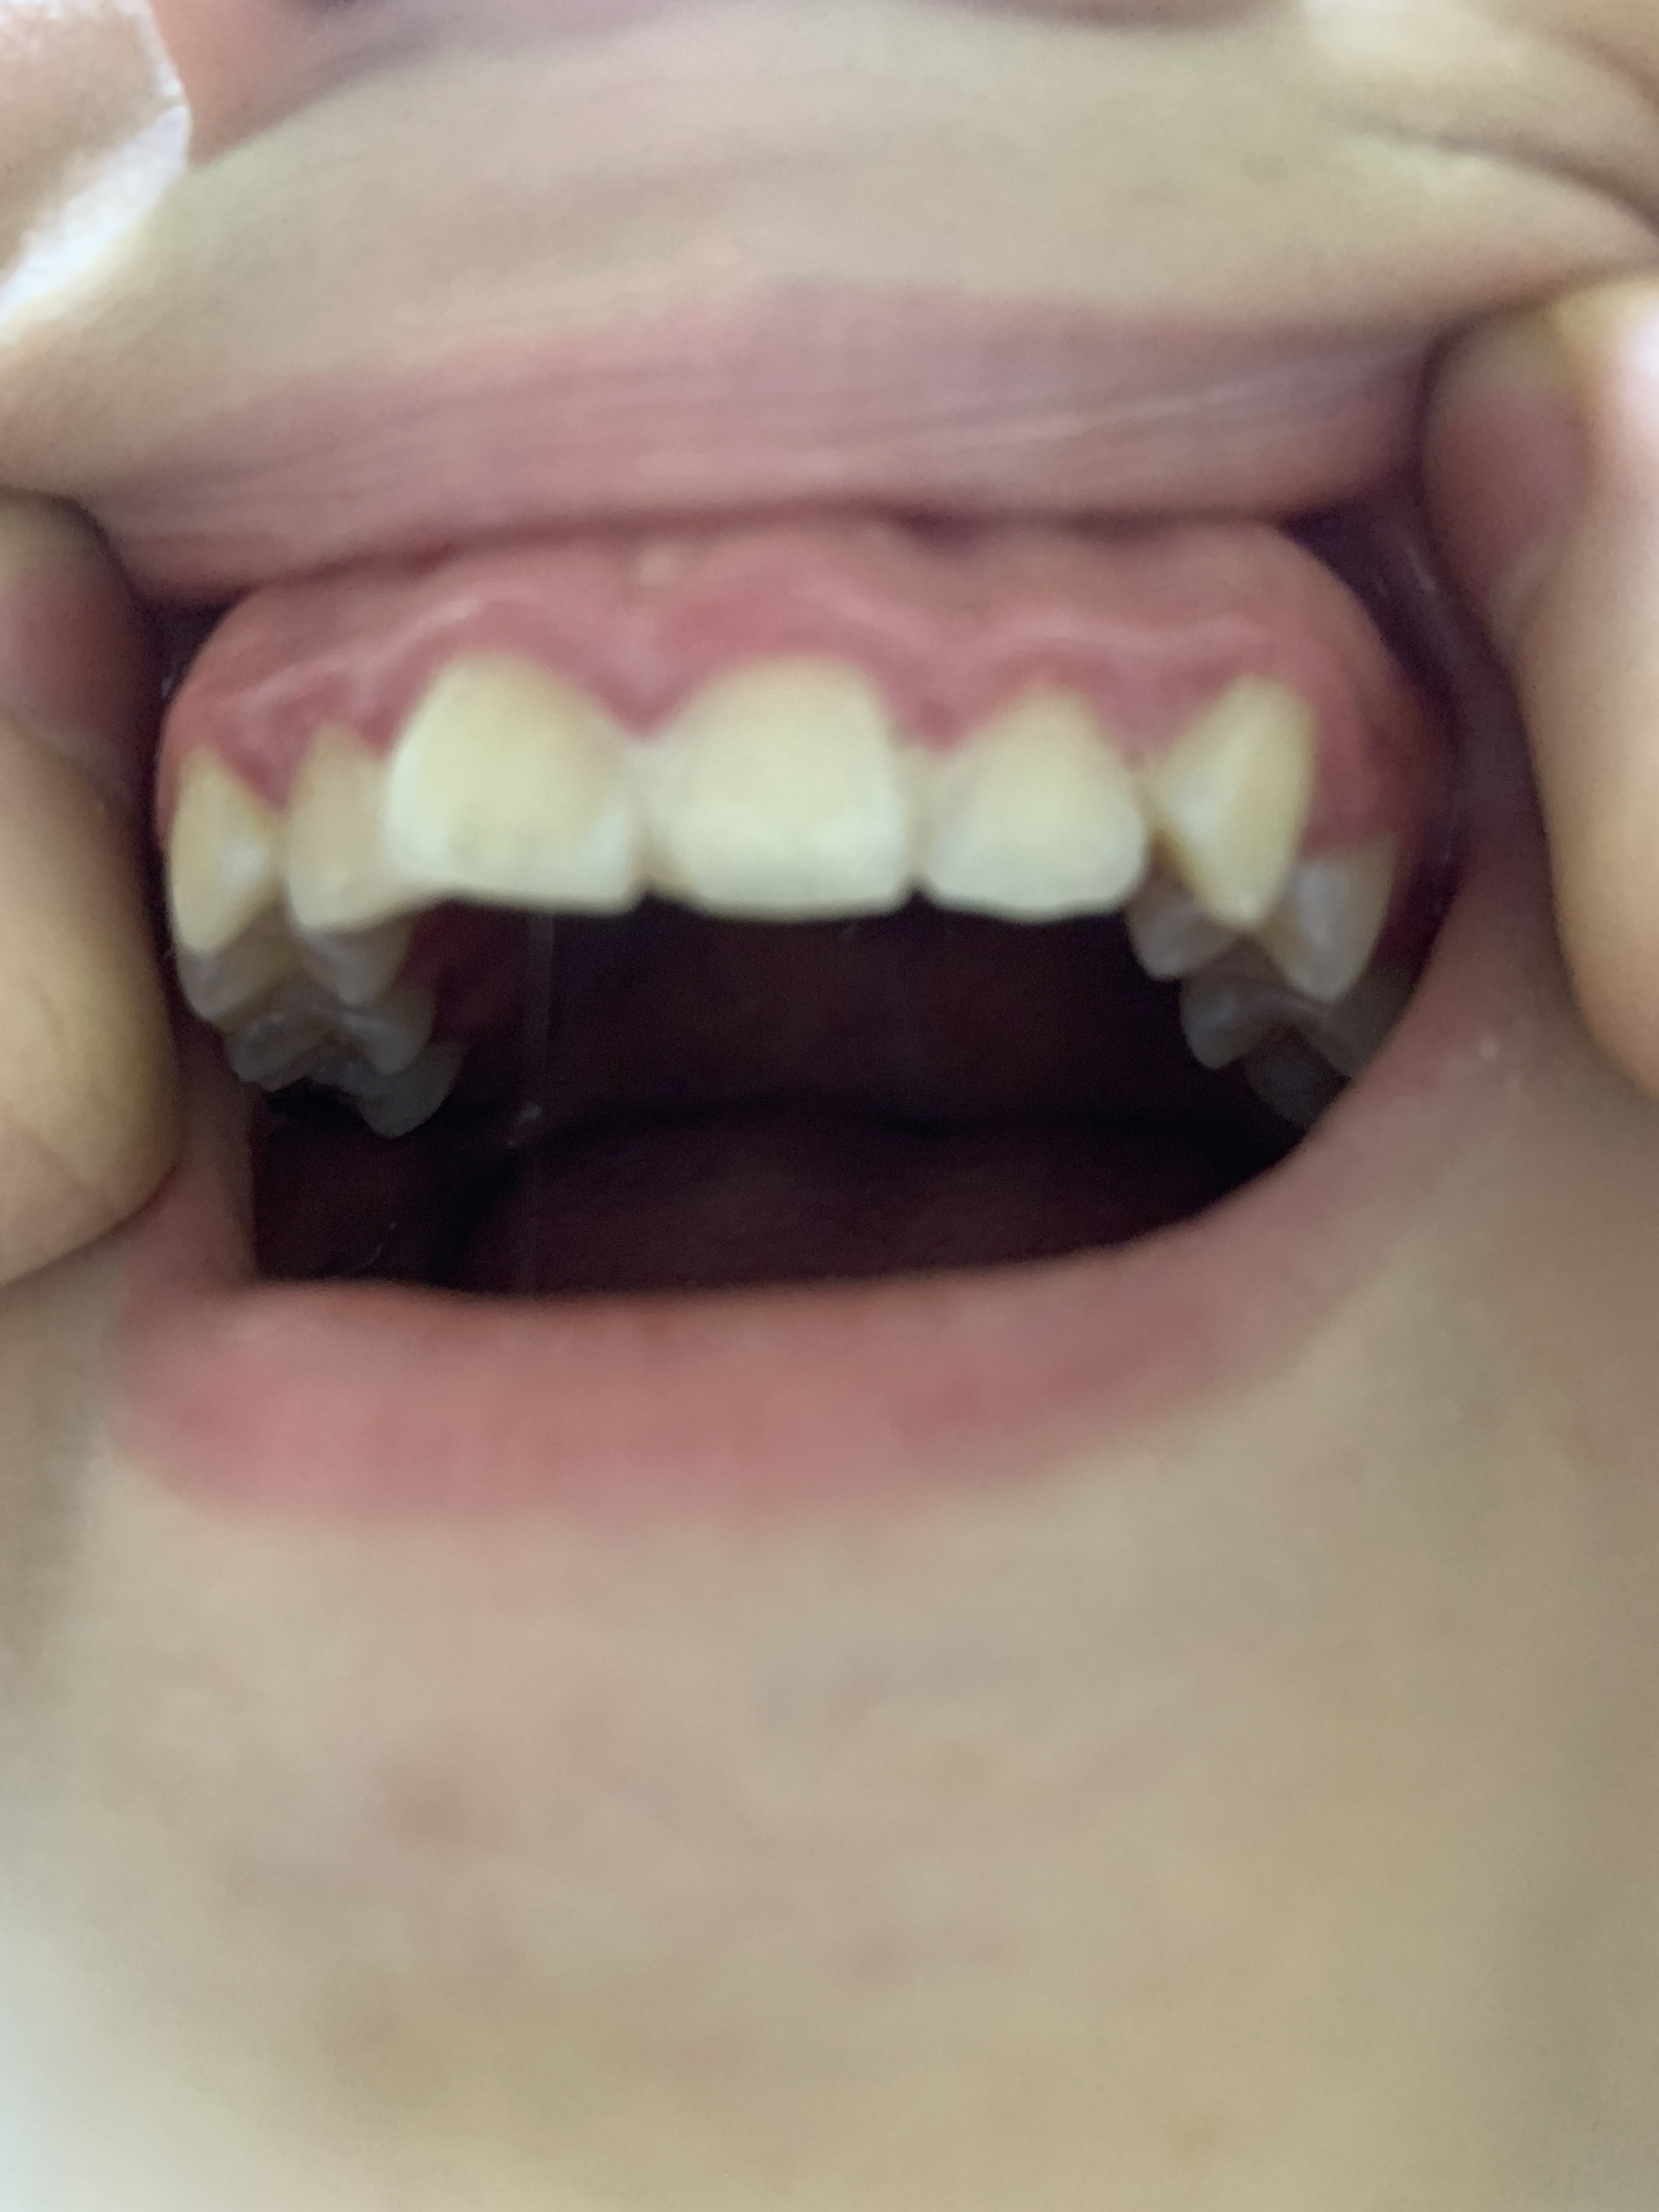teeth: (394, 643, 640, 897), (657, 655, 903, 888), (938, 681, 1155, 909), (284, 742, 403, 939)
